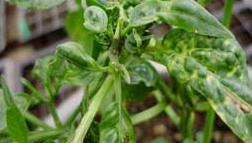Tomato leaf mosaic virus: (155, 26, 252, 143), (48, 42, 108, 91), (90, 102, 135, 143)
